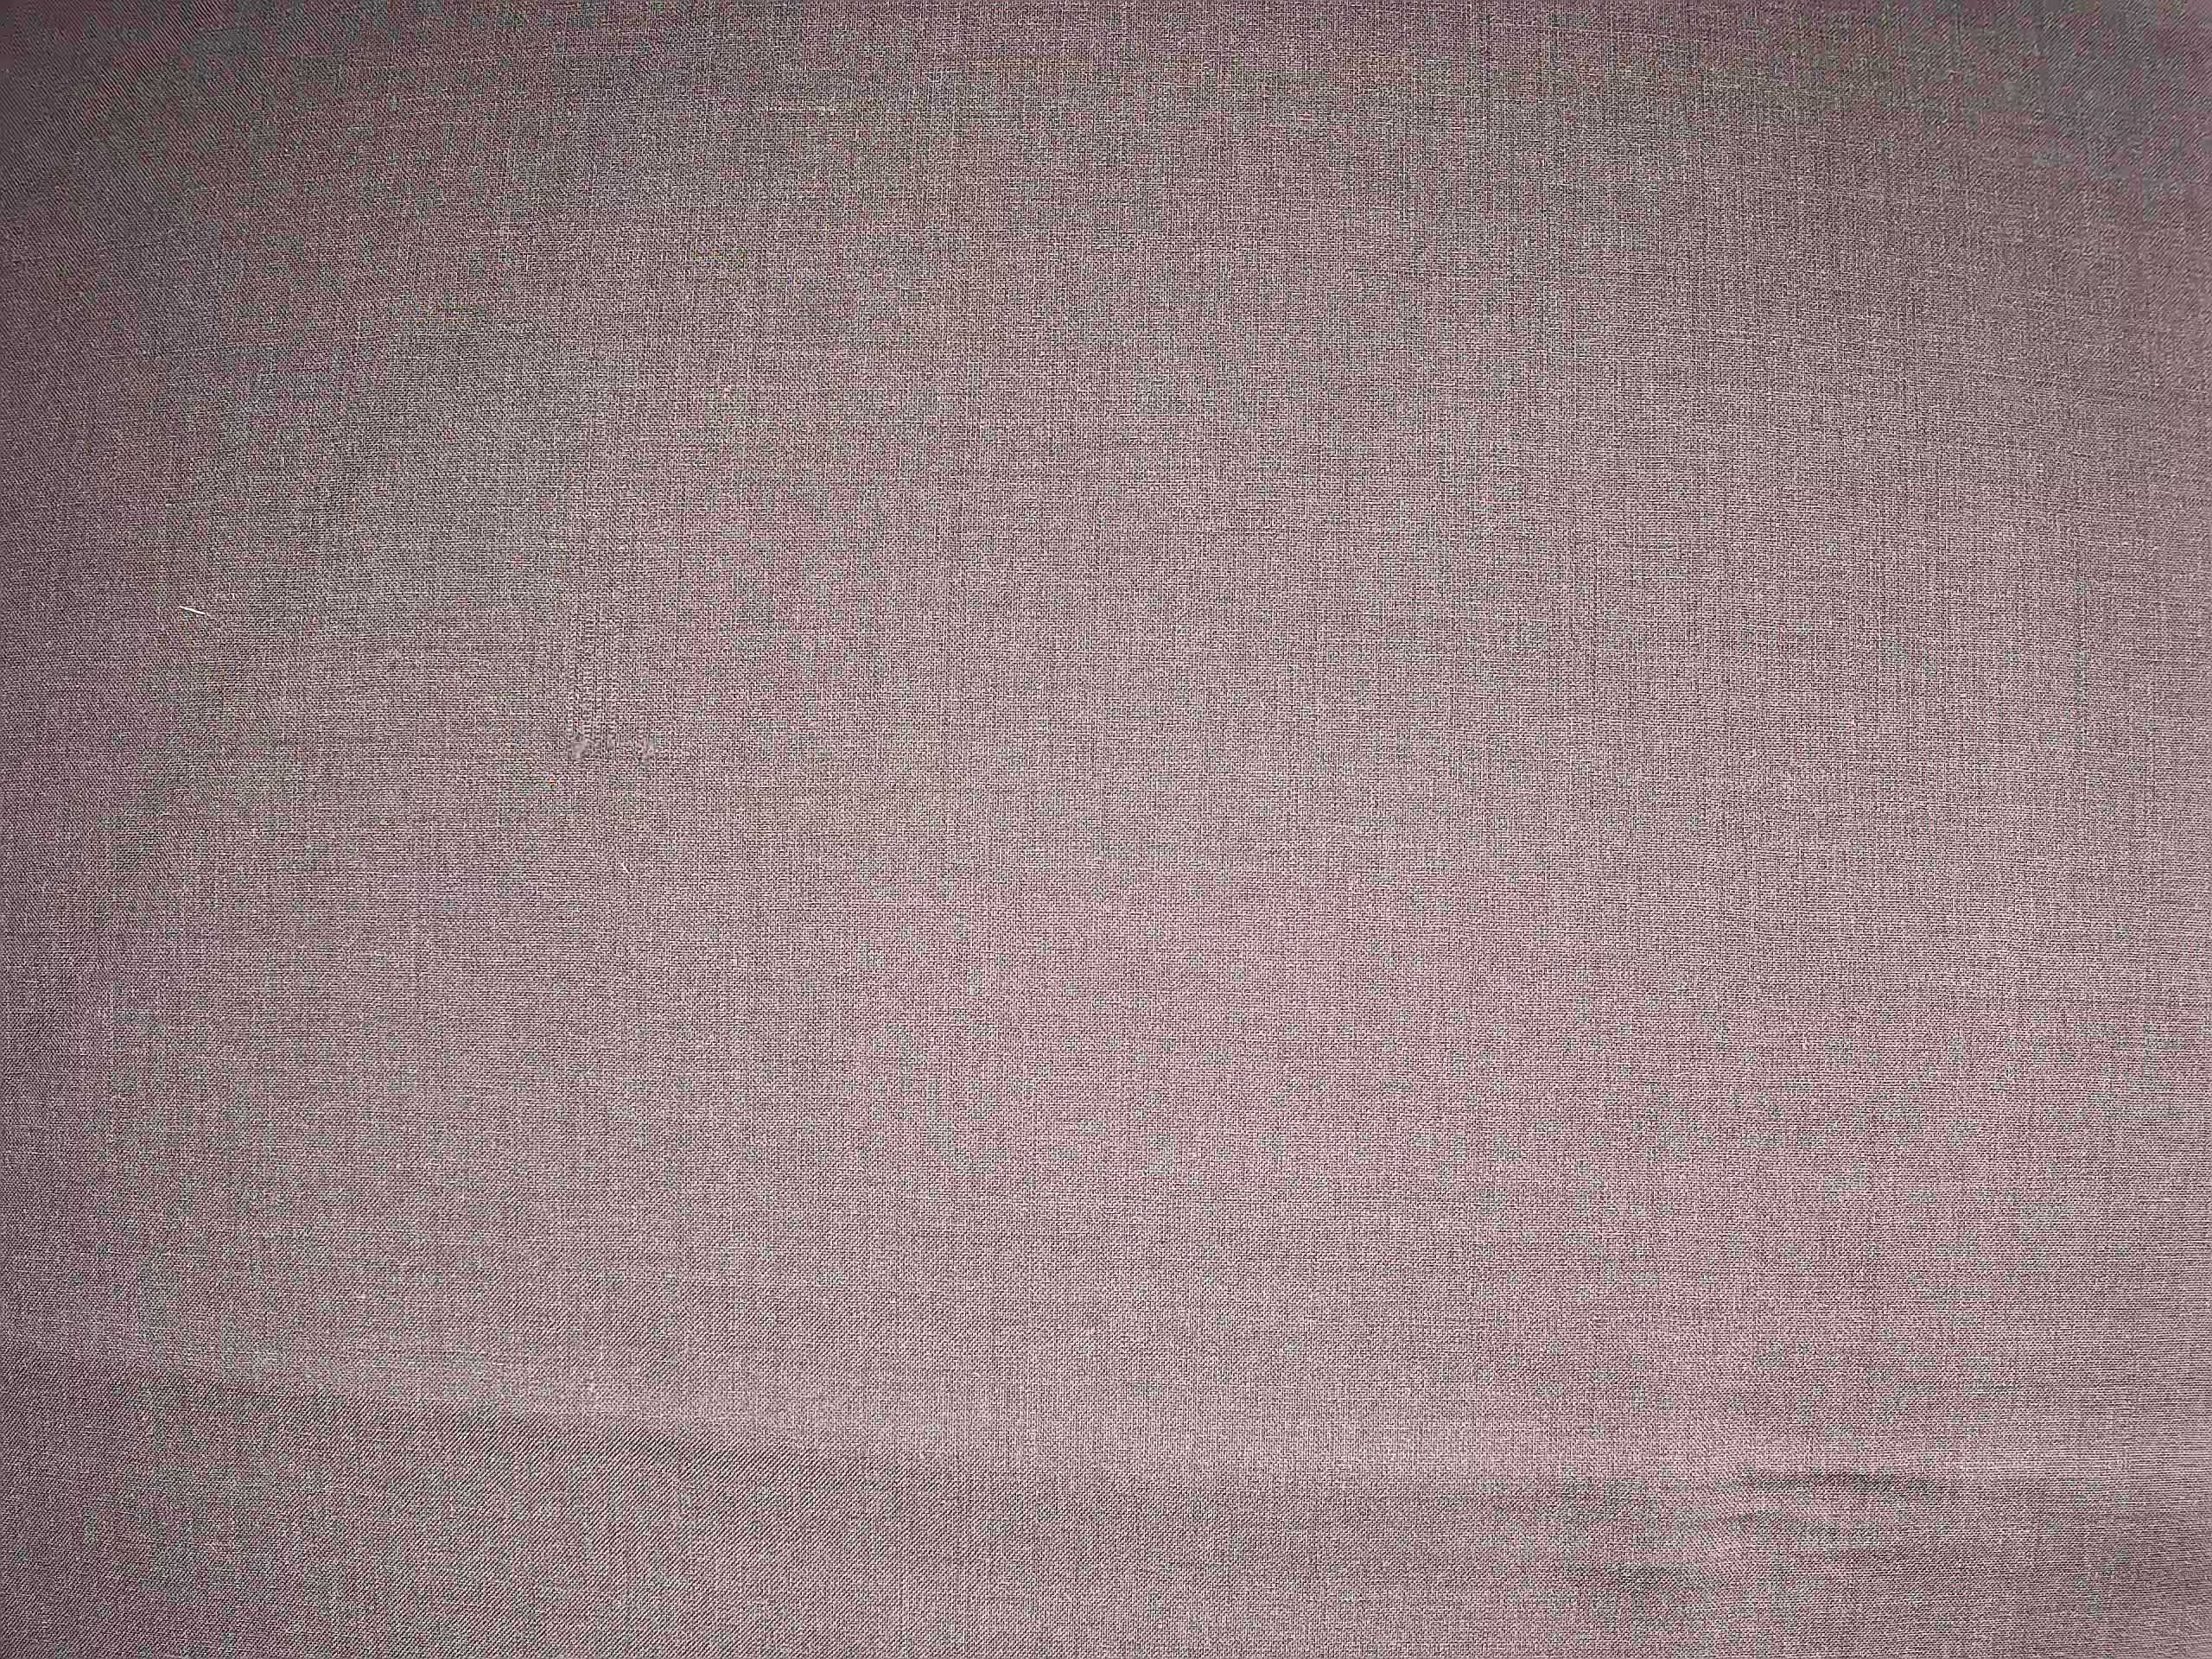knots: (519, 650, 657, 802)
